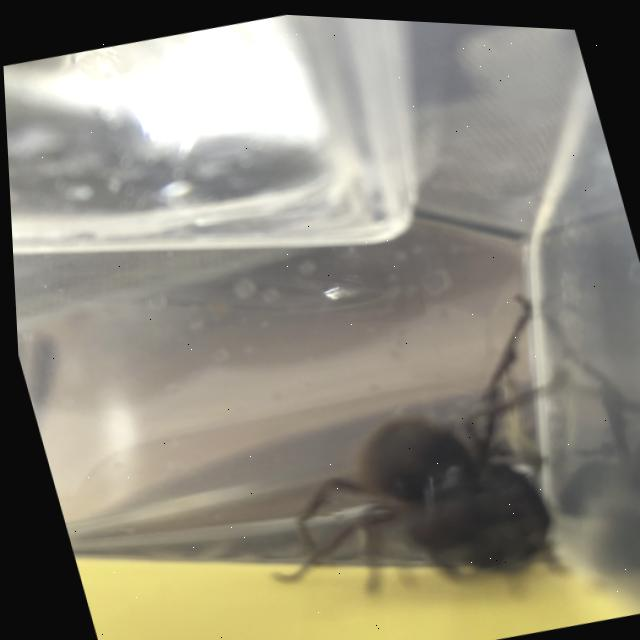Dead-Female-Dealate: (199, 266, 627, 640)
